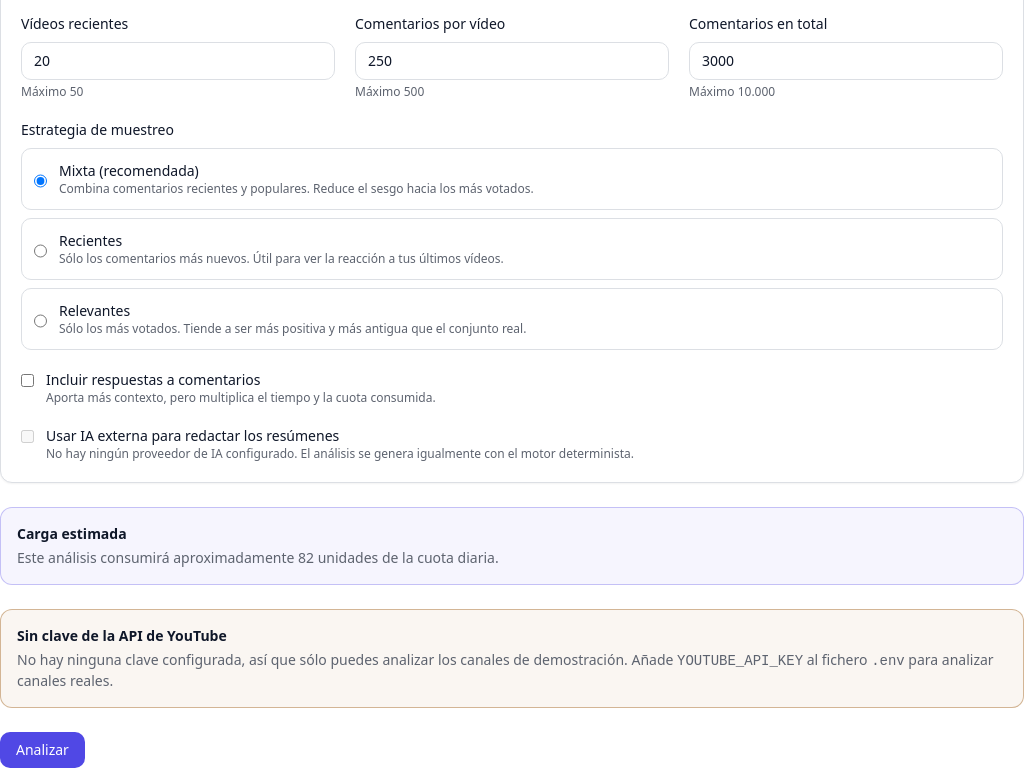
Test: Formulario de análisis › no envía la petición cuando el formulario es inválido
(page scrolled)
Step 1. Click the button "Analizar" → (42,750), box [0, 732, 85, 767]
(page scrolled)
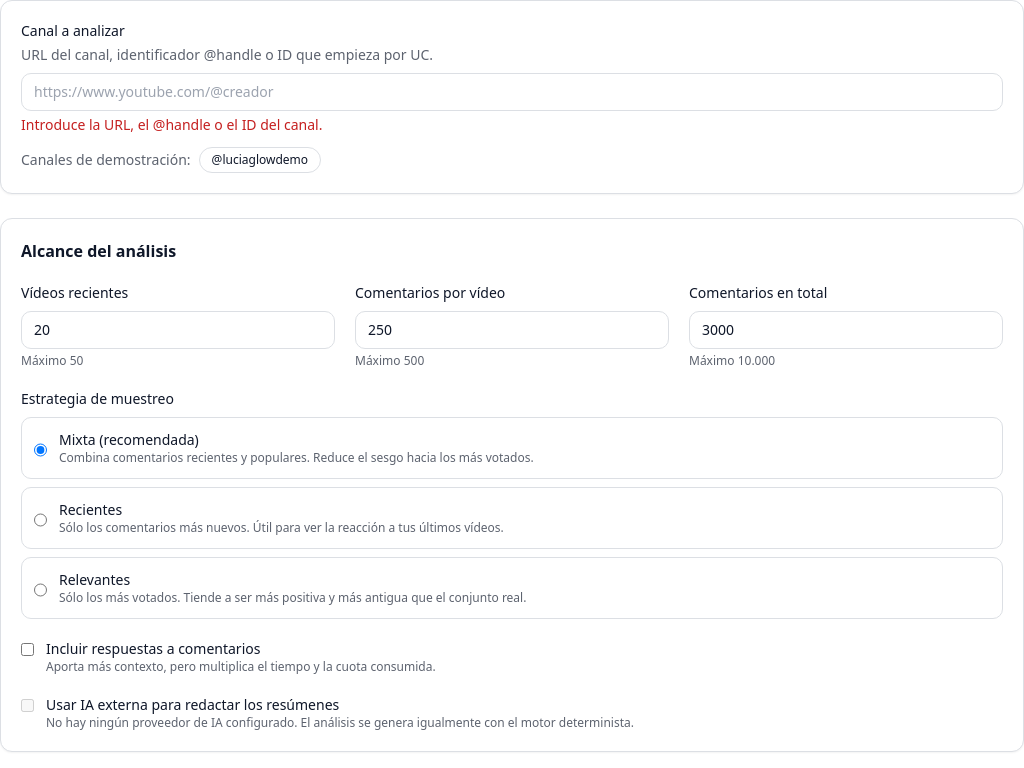
Now the message "Introduce la URL, el @handle o el ID del canal." is shown, box [21, 115, 322, 134]
